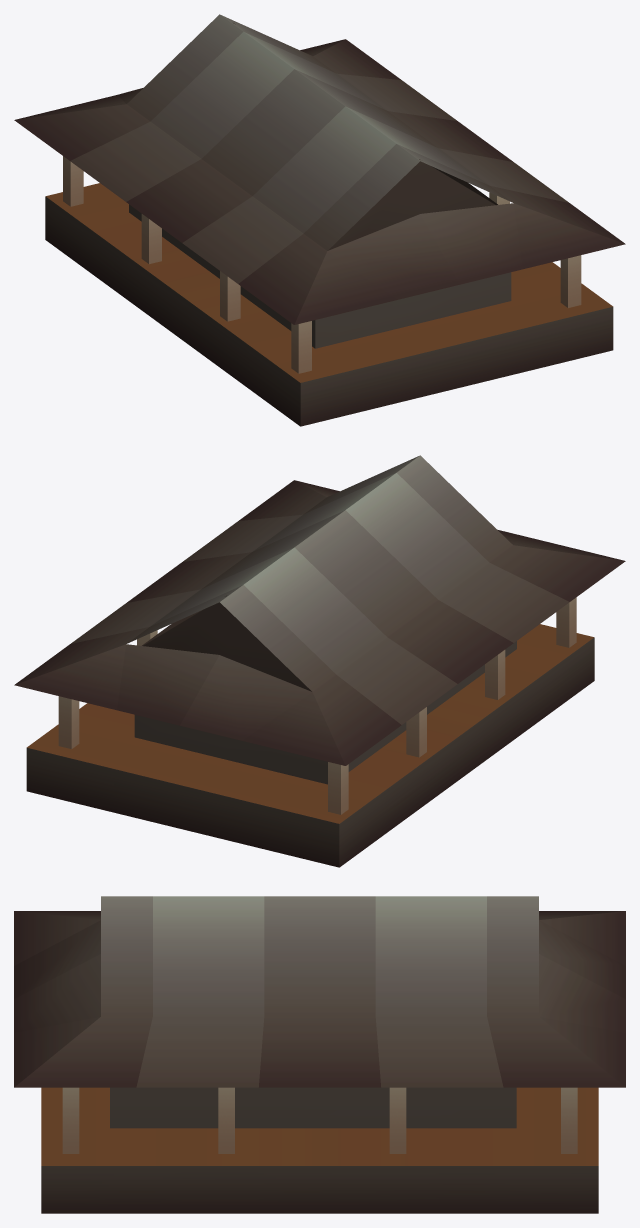
File: SM_TraditionnalHouse_02.fbx
3 views of the same model, one above another, from view 1: azimuth 30°, elevation 25°; view 2: azimuth 150°, elevation 25°; view 3: azimuth 270°, elevation 25° (orthographic). The views are drawn at different scales.
Parts seen in each view (by area): view 1: SM_TraditionnalHouse_02; view 2: SM_TraditionnalHouse_02; view 3: SM_TraditionnalHouse_02.
Part boxes in pixels (x1=…): SM_TraditionnalHouse_02: x1=14, y1=14, x2=625, y2=426; SM_TraditionnalHouse_02: x1=14, y1=455, x2=625, y2=867; SM_TraditionnalHouse_02: x1=14, y1=896, x2=625, y2=1213.
Size of the model in its own units: 0.6702 by 0.4048 by 0.9803.
